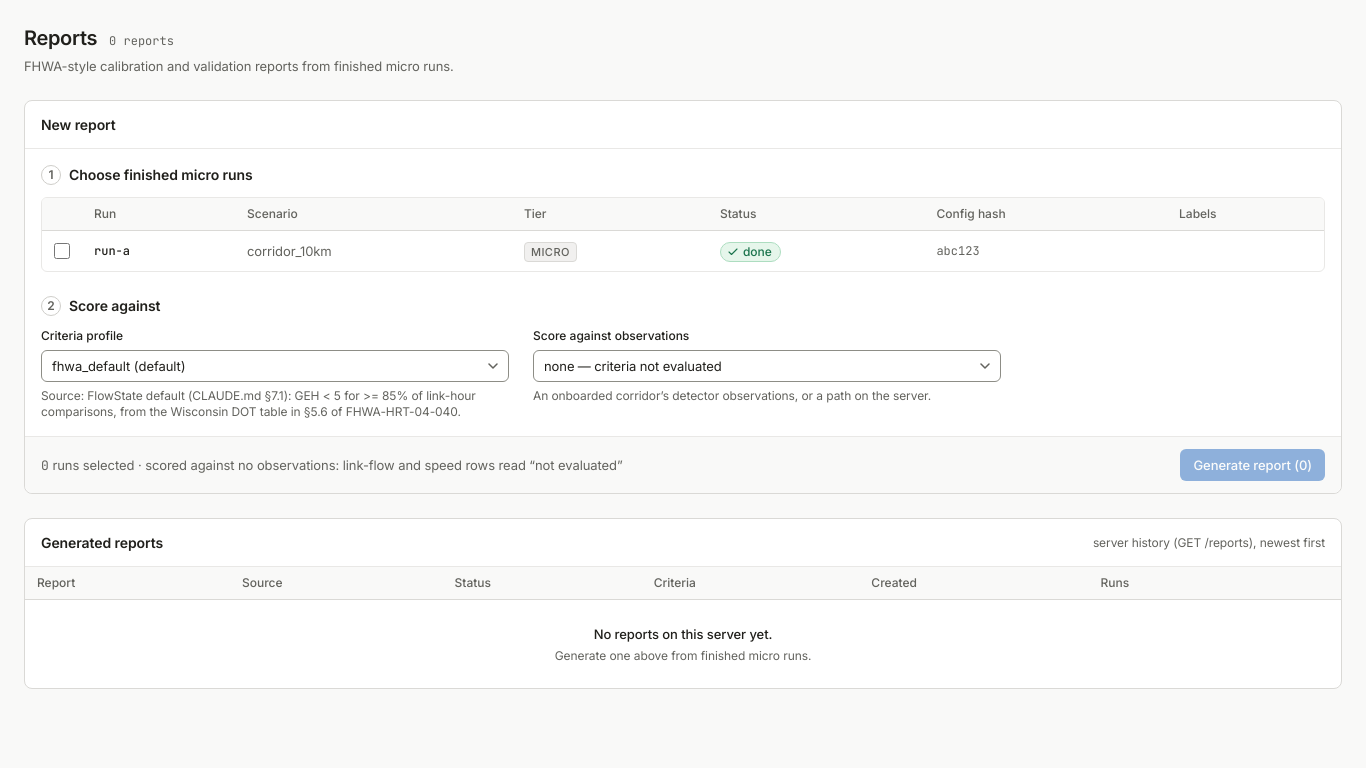
Test: ReportsView (asynchronous report contract) › sends a typed server path and shows the API’s refusal in its own words
Select "server path…" in the dropdown labelled "Score against observations". click: (767, 366)
box: top-left (533, 350), bottom-right (1001, 382)
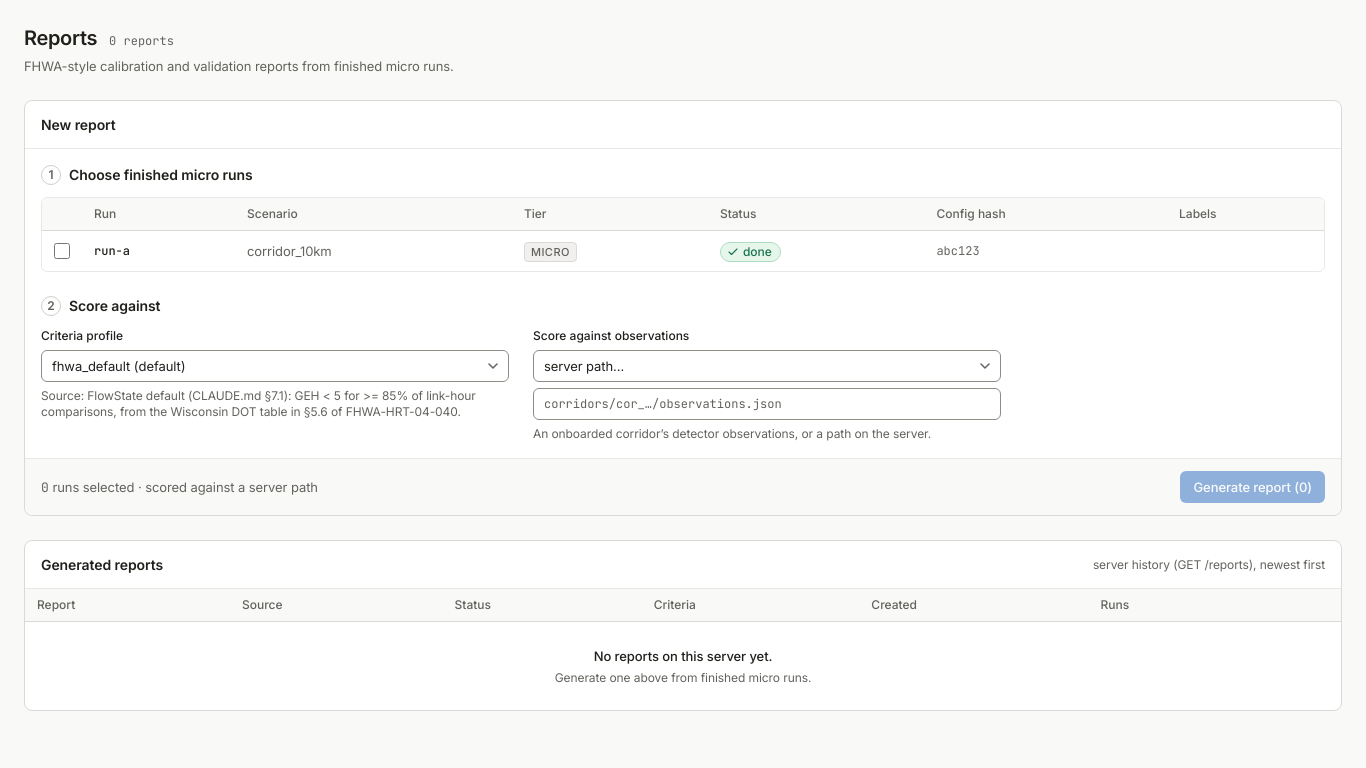
Type "  /etc/passwd  " into the field named "Observations path on the server". click: (767, 404)
box: top-left (533, 388), bottom-right (1001, 420)
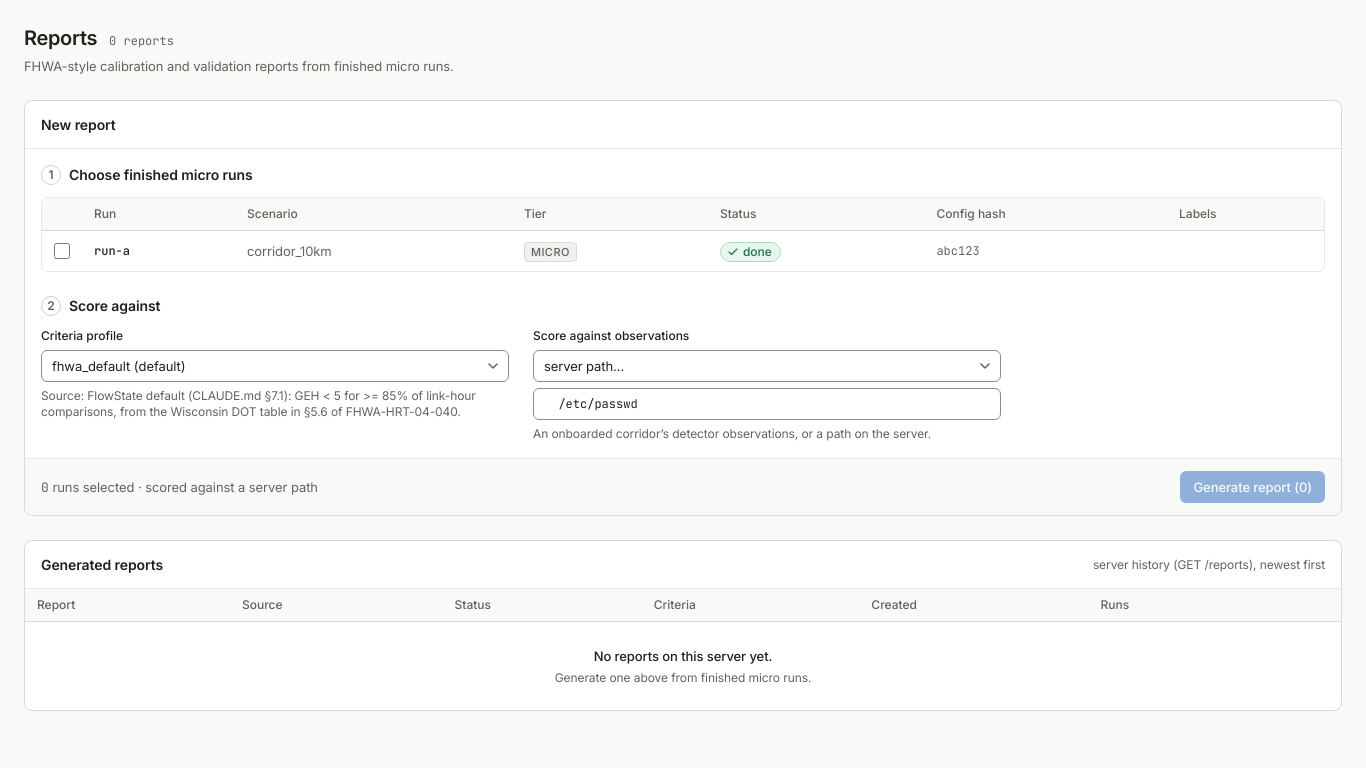
Click the checkbox named "select run-a". click: (62, 251)
box: top-left (54, 243), bottom-right (70, 259)
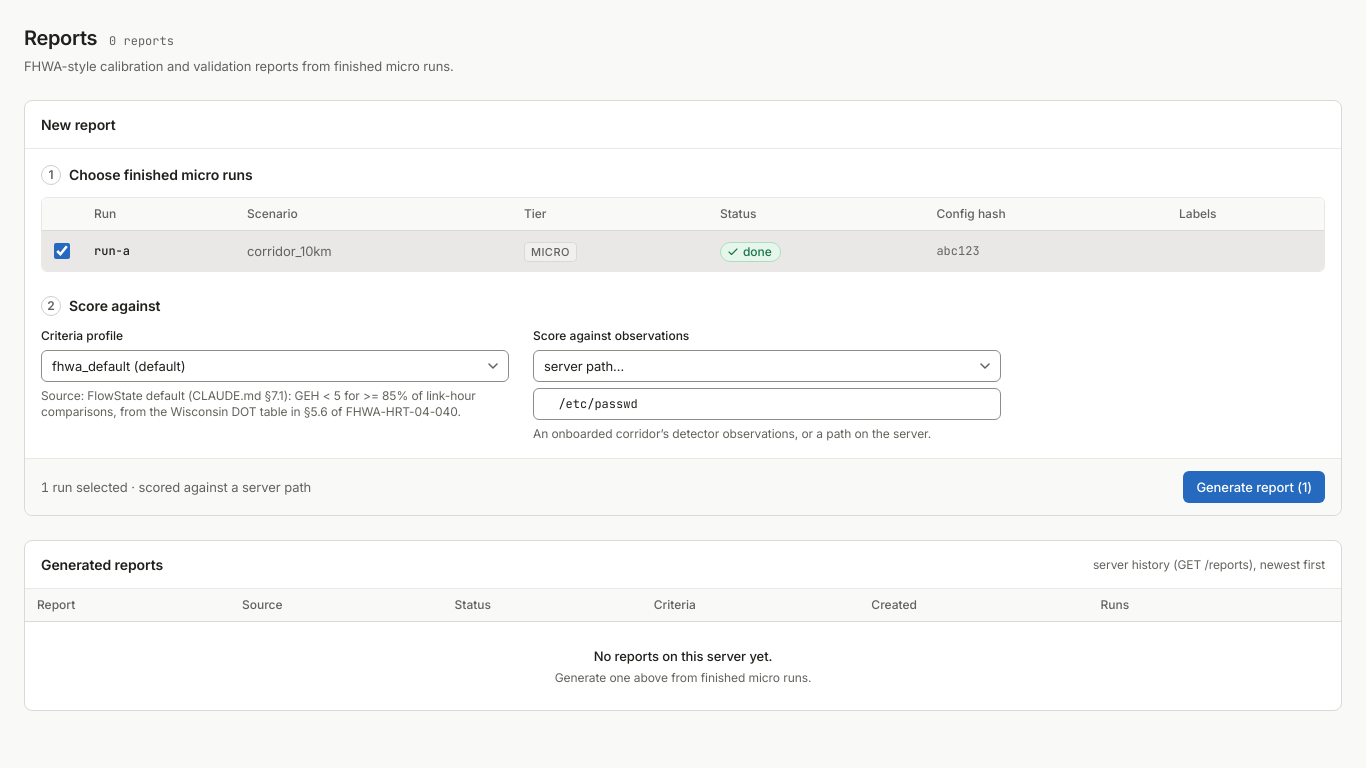
Click the button "Generate report (1)". click: (1254, 487)
box: top-left (1183, 471), bottom-right (1325, 503)
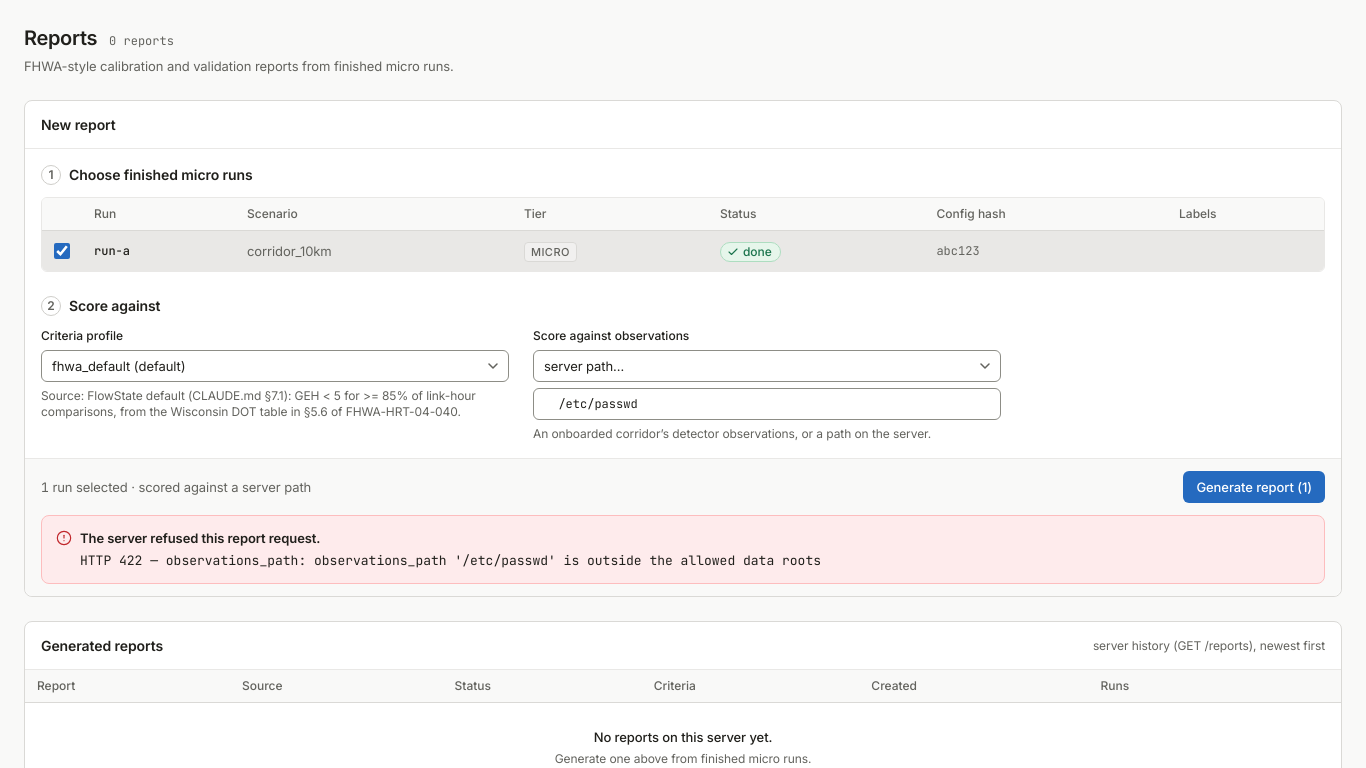
Result: the text "HTTP 422" is shown at top-left (80, 552), bottom-right (821, 569)
